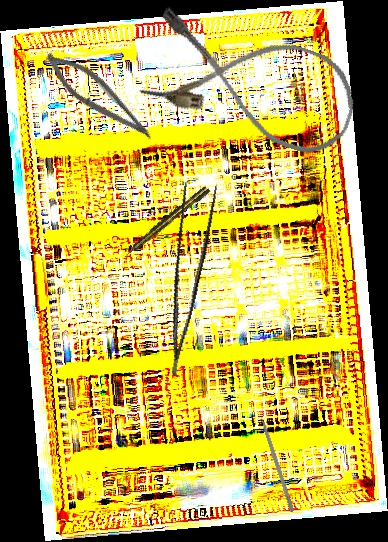Cannula: (135, 1, 368, 164)
Chopper: (256, 405, 301, 513)
Handpiece: (120, 184, 212, 261)
Micro Scissor: (35, 44, 165, 148)
Tissue Forceps: (139, 174, 225, 376)
